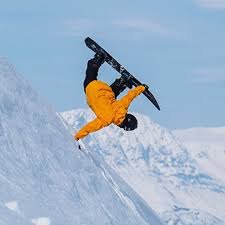snowboard: (84, 36, 162, 111)
